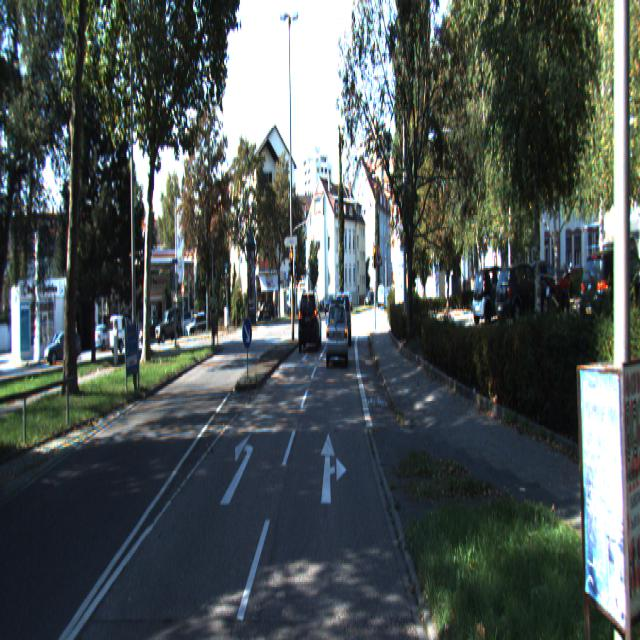Car: (494, 259, 552, 326), (473, 264, 523, 325), (326, 304, 348, 368), (299, 291, 322, 351), (335, 292, 352, 345)
